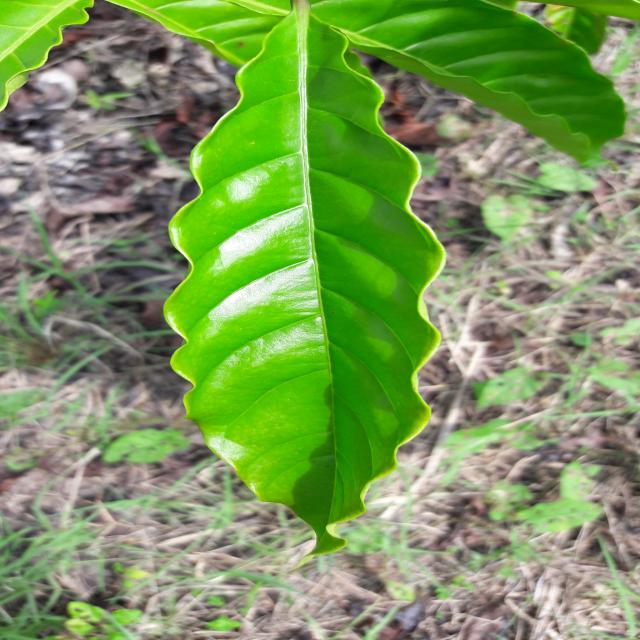Sanas: (162, 0, 446, 558)
